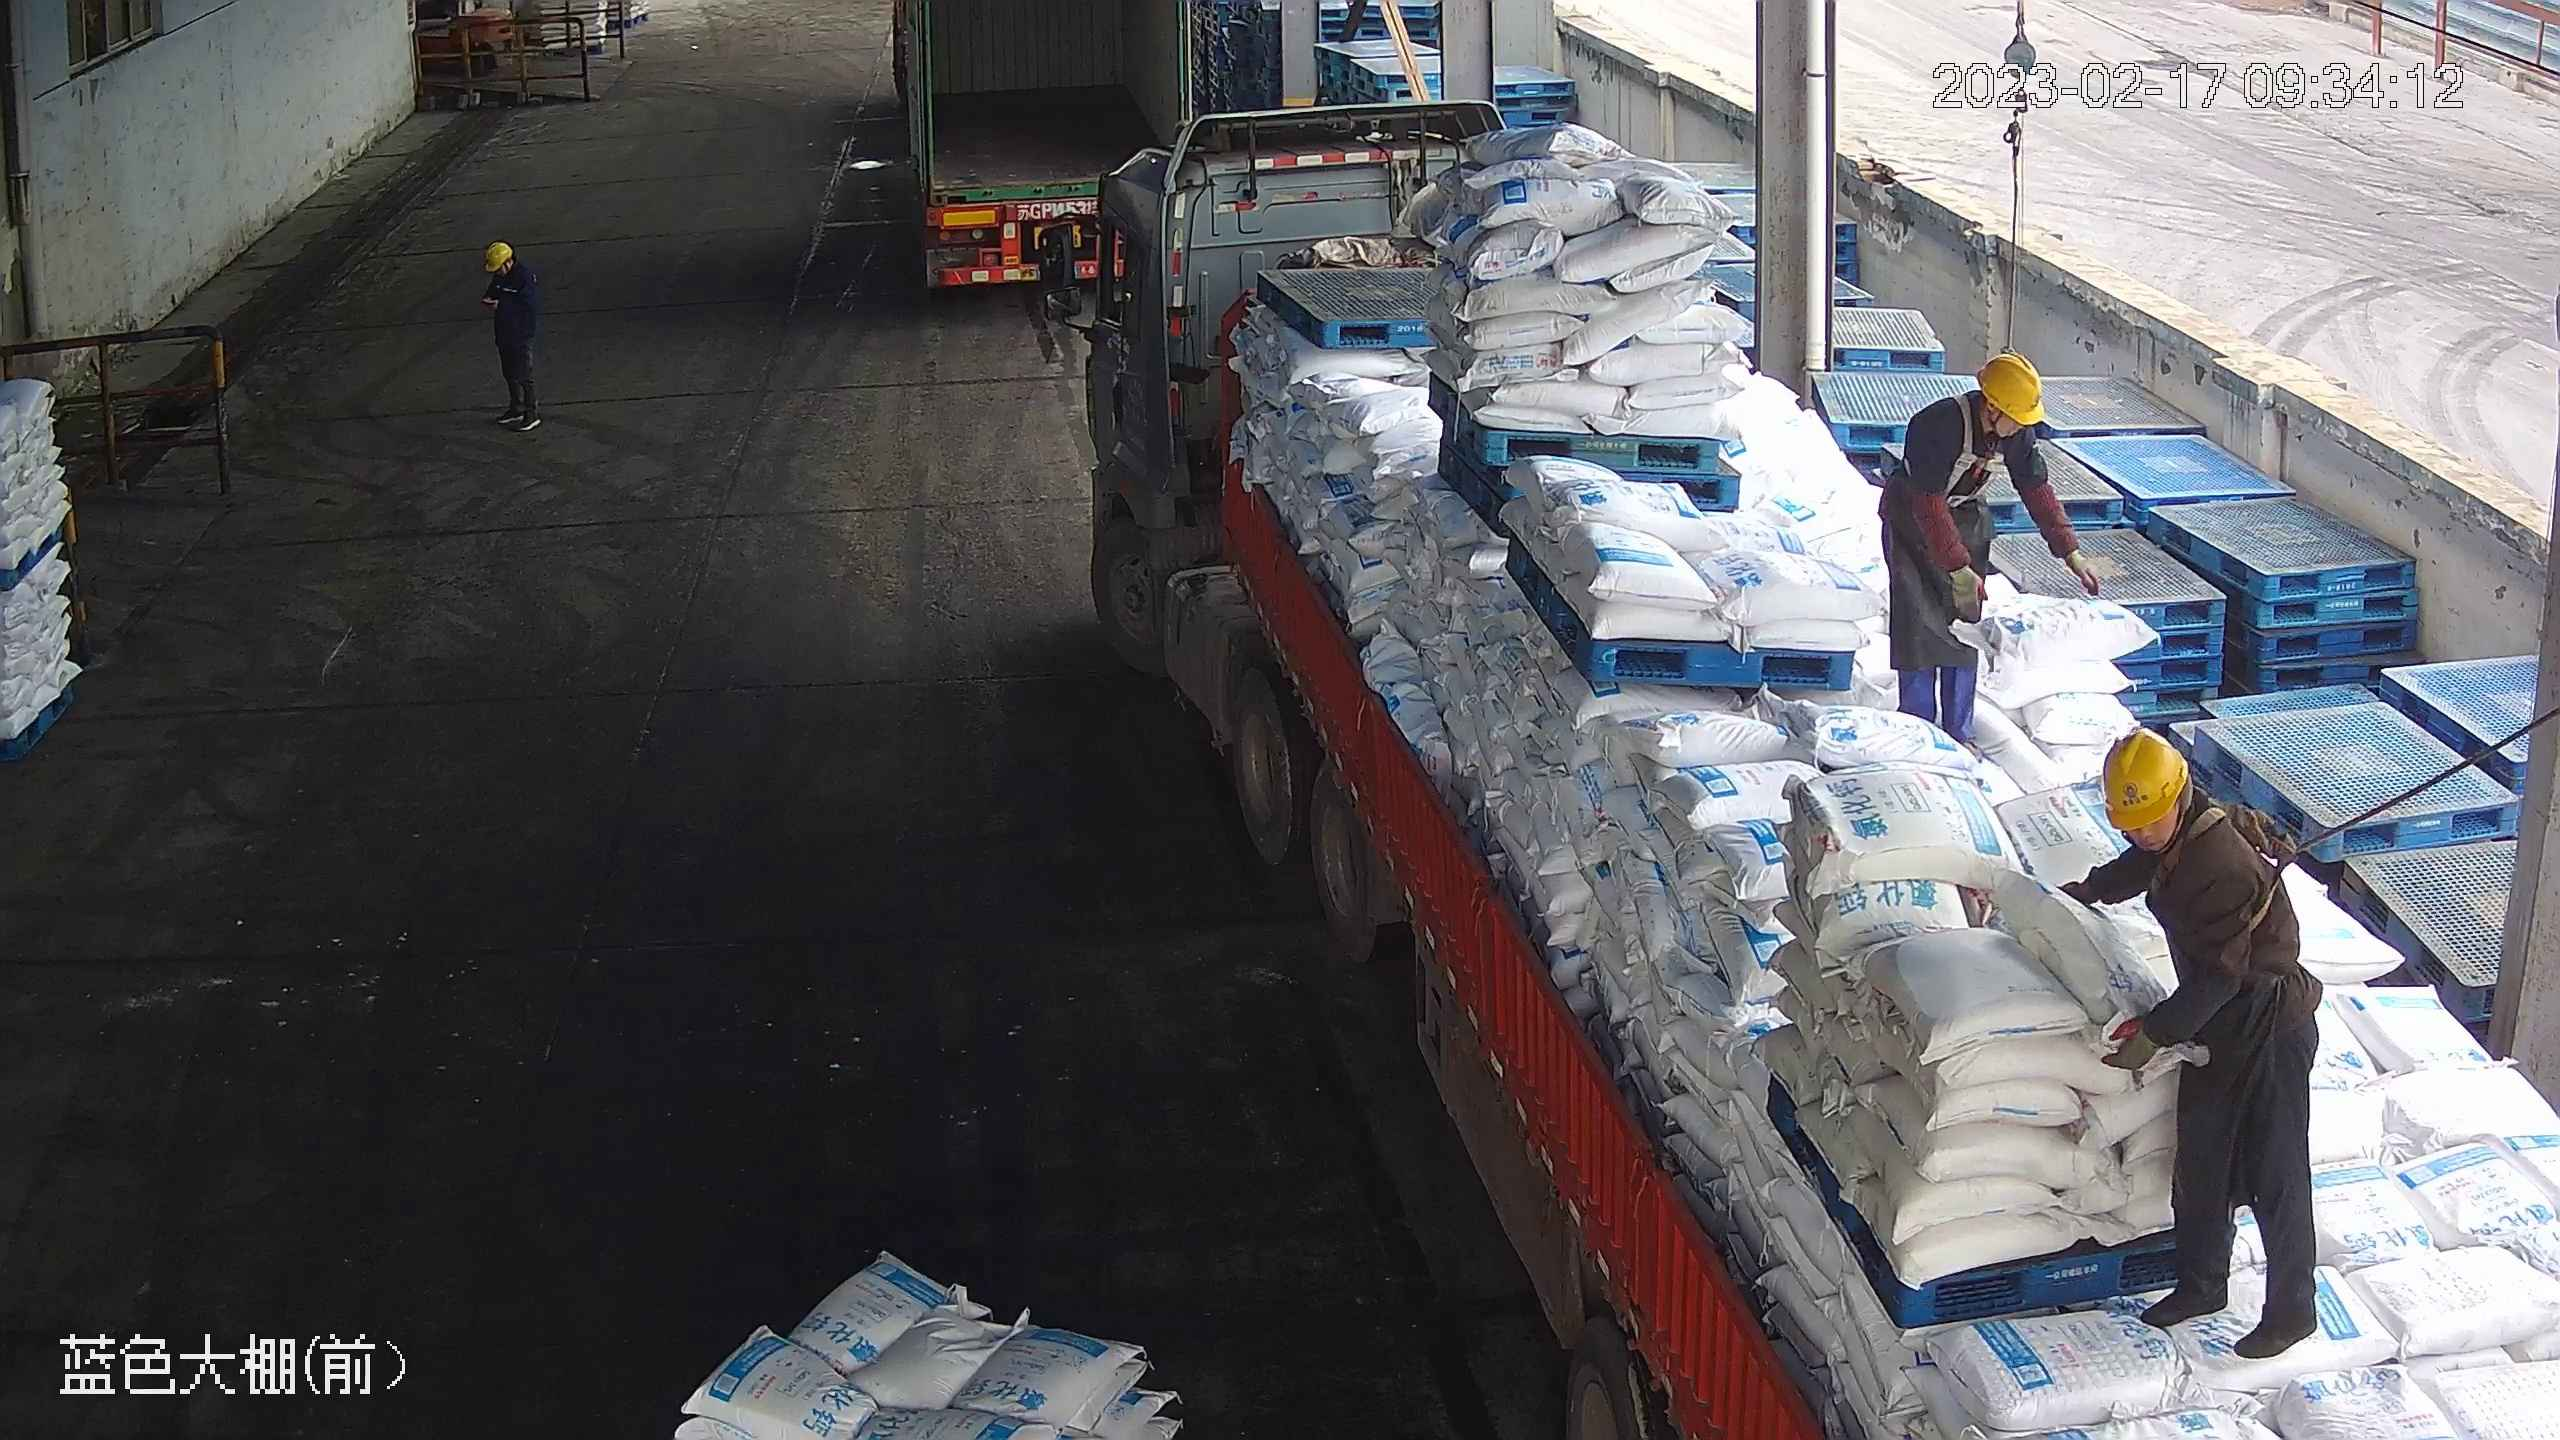belt: (2152, 801, 2302, 937), (1926, 387, 2015, 487)
head: (2088, 726, 2275, 909), (1900, 350, 2052, 482), (480, 240, 532, 294)
helmet: (2096, 726, 2193, 833), (1974, 351, 2048, 428), (482, 241, 512, 268)
people: (2055, 724, 2328, 1356), (1878, 349, 2104, 750), (479, 239, 545, 434)
truck: (1050, 95, 2554, 1437), (883, 1, 1196, 294)
